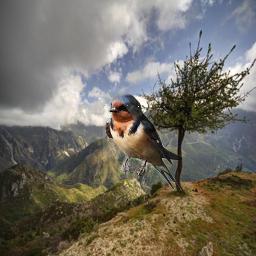Swallow: (103, 93, 182, 193)
